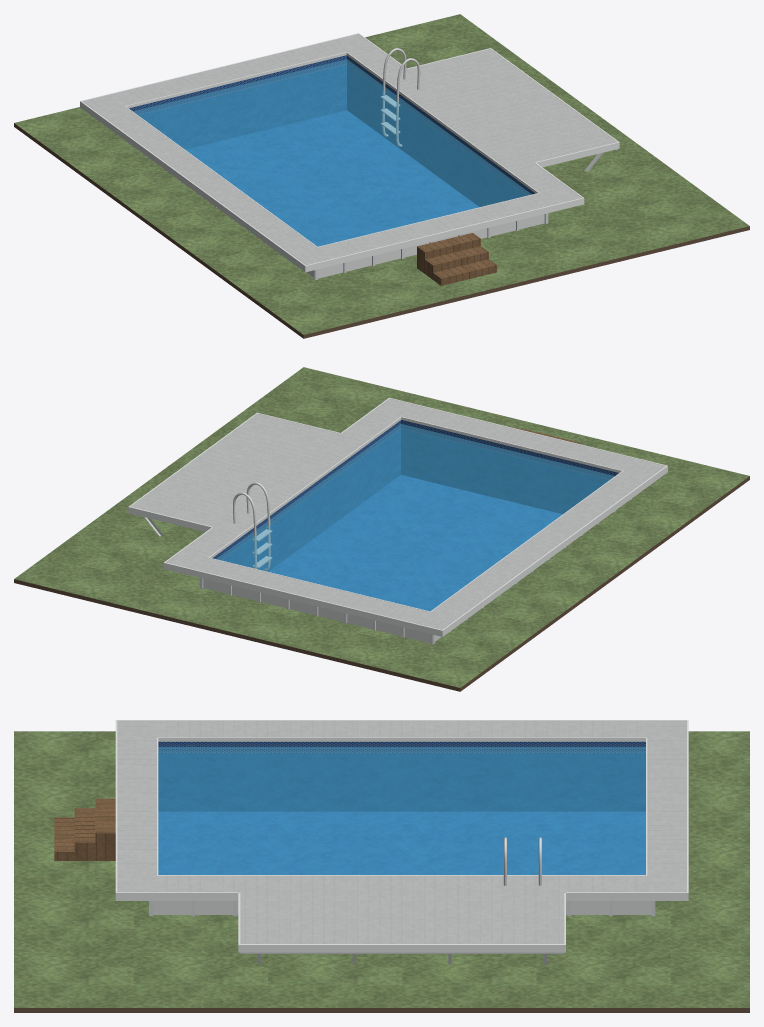
The model's file is kayak-pool-16x24-white-t-rec-nofence.d30e345e83.glb.
The picture shows the model from 3 angles, top to bottom: view 1: azimuth 30°, elevation 25°; view 2: azimuth 150°, elevation 25°; view 3: azimuth 270°, elevation 25°; orthographic projection. The views are drawn at different scales.
Visible parts, largest first — view 1: ground, water, deck, liner_floor, liner_wall, fascia, soil, steps, wall, steel; view 2: ground, water, deck, liner_floor, liner_wall, fascia, soil, wall, steel; view 3: ground, water, deck, liner_wall, liner_floor, fascia, soil, steps, wall, stud.
Boxes of the visible parts, x1=… form: ground: x1=14, y1=14, x2=749, y2=334; water: x1=133, y1=59, x2=531, y2=246; deck: x1=82, y1=34, x2=617, y2=265; liner_floor: x1=186, y1=110, x2=478, y2=246; liner_wall: x1=129, y1=55, x2=535, y2=206; fascia: x1=80, y1=33, x2=619, y2=272; soil: x1=14, y1=123, x2=749, y2=338; steps: x1=417, y1=233, x2=496, y2=285; wall: x1=306, y1=214, x2=544, y2=278; steel: x1=380, y1=48, x2=420, y2=146; ground: x1=14, y1=367, x2=749, y2=687; water: x1=216, y1=424, x2=614, y2=611; deck: x1=130, y1=398, x2=665, y2=629; liner_floor: x1=269, y1=475, x2=562, y2=611; liner_wall: x1=212, y1=420, x2=618, y2=571; fascia: x1=128, y1=397, x2=667, y2=636; soil: x1=14, y1=476, x2=749, y2=691; wall: x1=203, y1=578, x2=441, y2=643; steel: x1=233, y1=482, x2=272, y2=570; ground: x1=14, y1=731, x2=749, y2=1007; water: x1=158, y1=747, x2=645, y2=874; deck: x1=117, y1=721, x2=686, y2=943; liner_wall: x1=158, y1=741, x2=645, y2=811; liner_floor: x1=158, y1=811, x2=645, y2=874; fascia: x1=115, y1=720, x2=688, y2=952; soil: x1=14, y1=1008, x2=749, y2=1012; steps: x1=54, y1=798, x2=115, y2=860; wall: x1=153, y1=901, x2=650, y2=914; stud: x1=240, y1=952, x2=563, y2=964.
Size of the model in its own units: 9.75 by 1.9 by 10.97.
Materials: 12 (5 with a texture image).
